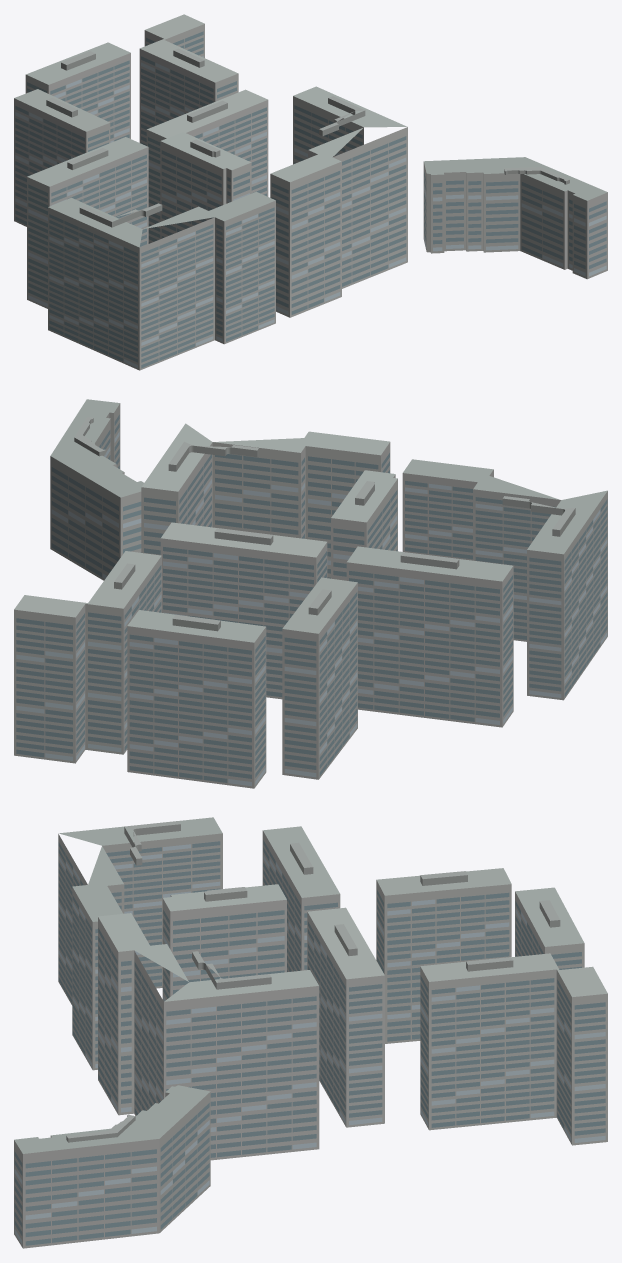
The model's file is apt-a13086704.glb.
3 views of the same model, one above another, from view 1: azimuth 30°, elevation 25°; view 2: azimuth 150°, elevation 25°; view 3: azimuth 270°, elevation 25° (orthographic). The views are drawn at different scales.
Visible parts, largest first — view 1: apt-a13086704; view 2: apt-a13086704; view 3: apt-a13086704.
Boxes of the visible parts, box(x1,y1,x2,y2) form: apt-a13086704: box(14, 14, 607, 370); apt-a13086704: box(14, 399, 607, 788); apt-a13086704: box(14, 817, 607, 1248).
Bounding box in the file's own units: 215 × 60.35 × 191.
